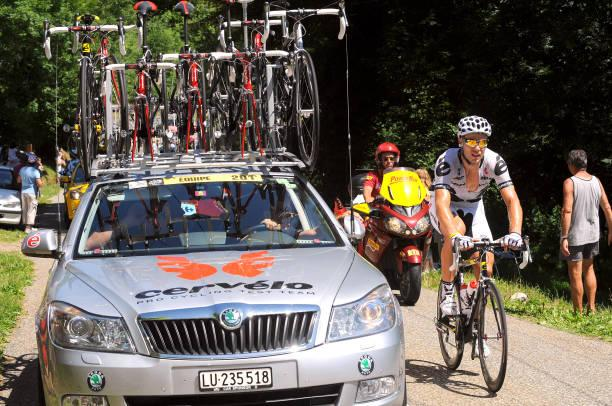skoda: (215, 305, 256, 333), (83, 364, 114, 395), (353, 348, 382, 381)
